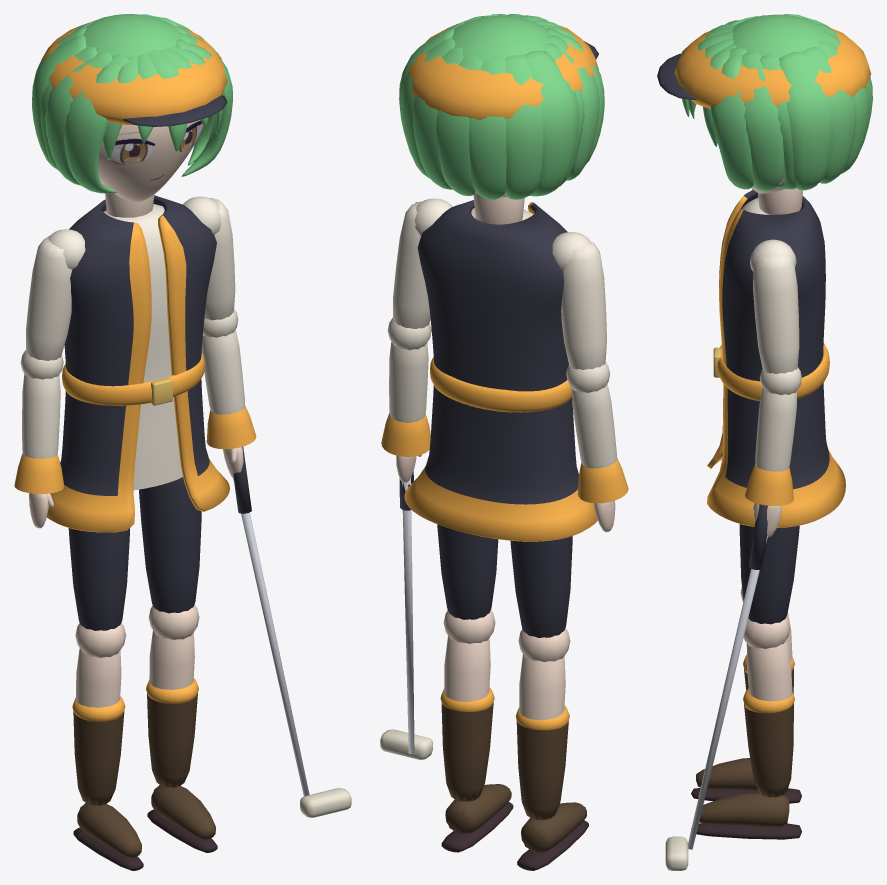
Rendered from pix.glb.
The picture shows the model from 3 angles, left to right: view 1: azimuth 30°, elevation 25°; view 2: azimuth 150°, elevation 25°; view 3: azimuth 270°, elevation 25°; orthographic projection. The views are drawn at different scales.
Parts seen in each view (by area): view 1: pix:body.mesh, pix:head.mesh, pix:shinL.mesh, pix:shinR.mesh, pix:foreR.mesh, pix:legR.mesh, pix:foreL.mesh, pix:armL.mesh, pix:legL.mesh, pix:armR.mesh; view 2: pix:body.mesh, pix:head.mesh, pix:shinL.mesh, pix:shinR.mesh, pix:foreR.mesh, pix:foreL.mesh, pix:armL.mesh, pix:legL.mesh, pix:legR.mesh, pix:armR.mesh; view 3: pix:head.mesh, pix:body.mesh, pix:shinR.mesh, pix:foreR.mesh, pix:armR.mesh, pix:legR.mesh, pix:shinL.mesh.
Boxes of the visible parts, <box> form: pix:body.mesh: <box>47,195,229,532</box>; pix:head.mesh: <box>32,14,232,217</box>; pix:shinL.mesh: <box>72,622,143,870</box>; pix:shinR.mesh: <box>146,604,217,852</box>; pix:foreR.mesh: <box>201,308,351,817</box>; pix:legR.mesh: <box>139,477,201,613</box>; pix:foreL.mesh: <box>14,350,64,528</box>; pix:armL.mesh: <box>26,229,85,360</box>; pix:legL.mesh: <box>68,528,129,630</box>; pix:armR.mesh: <box>183,196,235,320</box>; pix:body.mesh: <box>404,200,597,541</box>; pix:head.mesh: <box>399,14,604,224</box>; pix:shinL.mesh: <box>515,628,588,870</box>; pix:shinR.mesh: <box>440,610,513,852</box>; pix:foreR.mesh: <box>380,318,432,759</box>; pix:foreL.mesh: <box>566,362,628,532</box>; pix:armL.mesh: <box>552,232,606,369</box>; pix:legL.mesh: <box>510,536,572,637</box>; pix:legR.mesh: <box>437,524,498,619</box>; pix:armR.mesh: <box>393,198,452,328</box>; pix:head.mesh: <box>657,14,872,214</box>; pix:body.mesh: <box>707,190,845,527</box>; pix:shinR.mesh: <box>691,616,801,839</box>; pix:foreR.mesh: <box>665,367,801,870</box>; pix:armR.mesh: <box>750,239,799,373</box>; pix:legR.mesh: <box>739,524,799,624</box>; pix:shinL.mesh: <box>691,587,801,803</box>.
Bounding box in the file's own units: 0.4994 × 1.37 × 0.3355.
20 materials, 1 textured.
